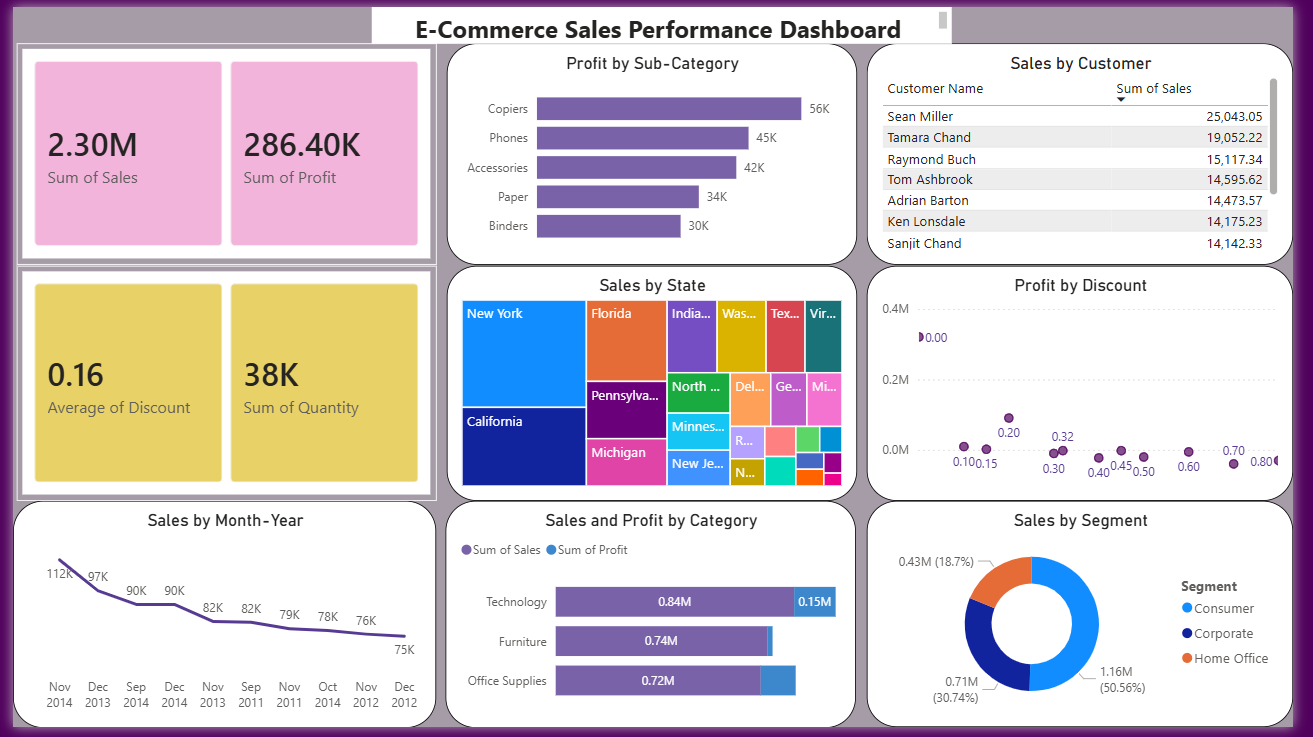

What the dashboard file says about the page in this screenshot:
{"tool":"powerbi","page":{"name":"Page 1","canvas":[1280,720],"ordinal":0},"visuals":[{"type":"lineChart","title":"Sales by Month-Year","fields":{"Category":["superstore (2).Month-Year"],"Y":["Sum(superstore (2).Sales)"]},"box":[0,493.4,423.5,226.8],"z":0},{"type":"barChart","title":"Sales and Profit by Category","fields":{"Category":["superstore (2).Category"],"Y":["Sum(superstore (2).Sales)","Sum(superstore (2).Profit)"]},"box":[433.1,493.4,410.2,226.8],"z":1000},{"type":"barChart","title":"Profit by Sub-Category","fields":{"Category":["superstore (2).Sub-Category"],"Y":["Sum(superstore (2).Profit)"]},"box":[433.3,36.7,410,221.7],"z":2000},{"type":"treemap","title":"Sales by State","fields":{"Group":["superstore (2).State"],"Values":["Sum(superstore (2).Sales)"]},"box":[433.3,258.3,410,235],"z":3000},{"type":"tableEx","title":"Customer by Sales","fields":{"Values":["superstore (2).Customer Name","Sum(superstore (2).Sales)"]},"box":[853.3,36.7,426.7,221.7],"z":4000},{"type":"scatterChart","title":"Profit by Discount","fields":{"Y":["Sum(superstore (2).Profit)"],"X":["superstore (2).Discount"]},"box":[853.3,258.3,426.7,235],"z":5000},{"type":"donutChart","title":"Sales by Segment","fields":{"Category":["superstore (2).Segment"],"Y":["Sum(superstore (2).Sales)"]},"box":[853.3,493.3,426.7,226.7],"z":6000},{"type":"cardVisual","fields":{"Data":["Sum(superstore (2).Sales)","Sum(superstore (2).Profit)"]},"box":[3.3,36.7,420,221.7],"z":7000},{"type":"cardVisual","fields":{"Data":["Avg(superstore (2).Discount)","Sum(superstore (2).Quantity)"]},"box":[3.3,258.3,420,235],"z":8000},{"type":"textbox","box":[358.3,0,580,36.7],"z":8001}]}

Visuals, with their boxes in screenshot pixels (x1, y1, x2, y2), scaled from the page's 1280x720 canvas onto the 1313x737 screenshot:
"Sales by Month-Year" lineChart: (x1=0, y1=505, x2=434, y2=736)
"Sales and Profit by Category" barChart: (x1=444, y1=505, x2=865, y2=736)
"Profit by Sub-Category" barChart: (x1=444, y1=38, x2=865, y2=265)
"Sales by State" treemap: (x1=444, y1=264, x2=865, y2=505)
"Customer by Sales" tableEx: (x1=875, y1=38, x2=1312, y2=265)
"Profit by Discount" scatterChart: (x1=875, y1=264, x2=1312, y2=505)
"Sales by Segment" donutChart: (x1=875, y1=505, x2=1312, y2=736)
cardVisual - Sum(superstore (2).Sales) x Sum(superstore (2).Profit): (x1=3, y1=38, x2=434, y2=265)
cardVisual - Avg(superstore (2).Discount) x Sum(superstore (2).Quantity): (x1=3, y1=264, x2=434, y2=505)
textbox: (x1=368, y1=0, x2=962, y2=38)
